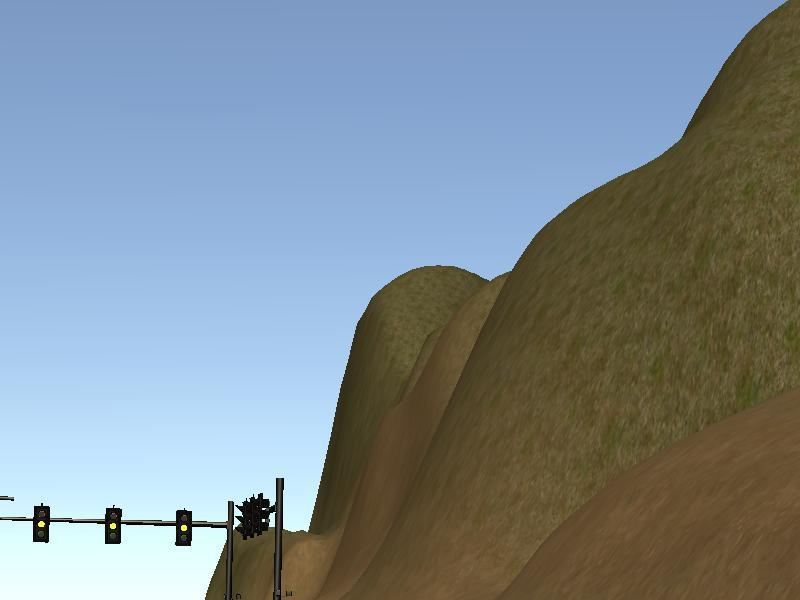Yellow: (175, 509, 192, 547), (104, 508, 121, 546), (32, 506, 49, 544)
